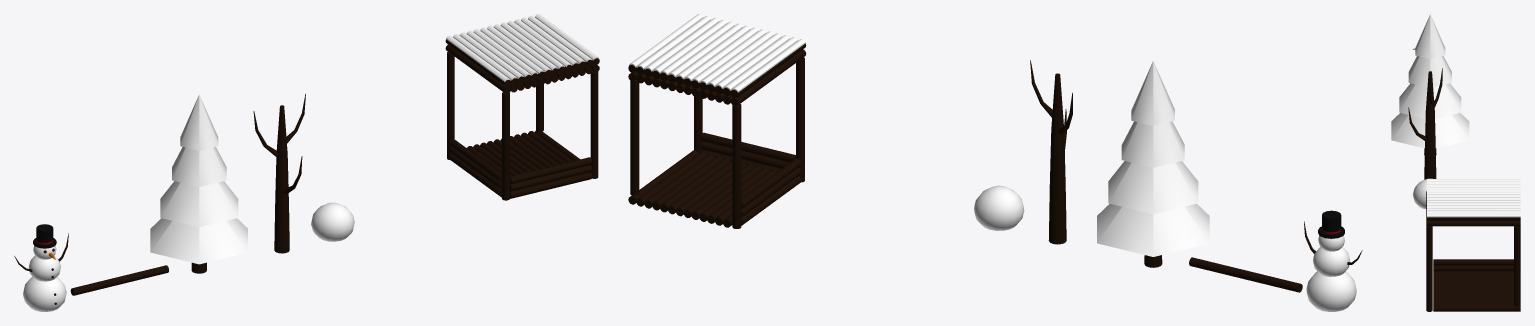
The model's file is props.FBX.
The picture shows the model from 3 angles, left to right: view 1: azimuth 30°, elevation 25°; view 2: azimuth 150°, elevation 25°; view 3: azimuth 270°, elevation 25°; orthographic projection. The views are drawn at different scales.
Visible parts, largest first — view 1: cabin, Tree, snowman, dead tree, snowball, log; view 2: cabin, Tree, snowman, dead tree, snowball, log; view 3: cabin, Tree, dead tree, snowball.
Part boxes in pixels (x1,y1,x2,y2): cabin: [445, 14, 599, 200]; Tree: [150, 94, 247, 273]; snowman: [14, 224, 68, 311]; dead tree: [253, 94, 305, 253]; snowball: [311, 202, 354, 241]; log: [70, 265, 168, 295]; cabin: [628, 14, 806, 228]; Tree: [1097, 61, 1209, 267]; snowman: [1304, 210, 1362, 311]; dead tree: [1030, 60, 1072, 244]; snowball: [974, 185, 1024, 230]; log: [1189, 257, 1302, 292]; cabin: [1426, 179, 1520, 311]; Tree: [1391, 14, 1469, 154]; dead tree: [1408, 68, 1442, 179]; snowball: [1413, 178, 1432, 209].
Size of the model in its own units: 781 by 188 by 231.
